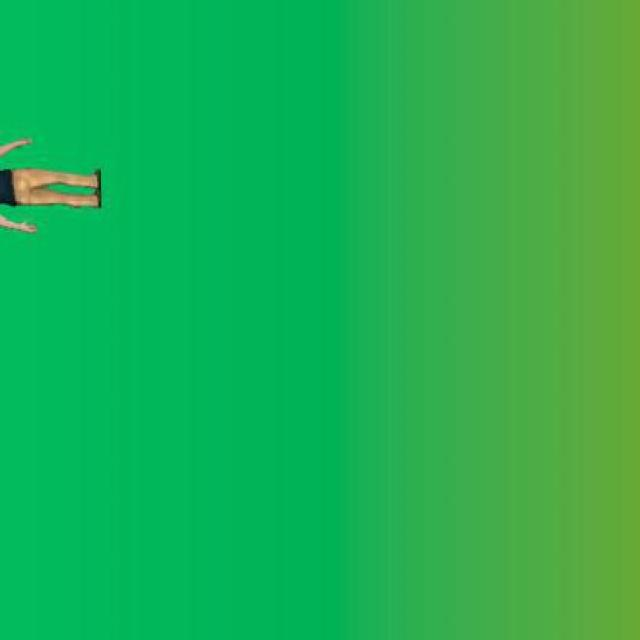Person: (0, 131, 108, 240)
